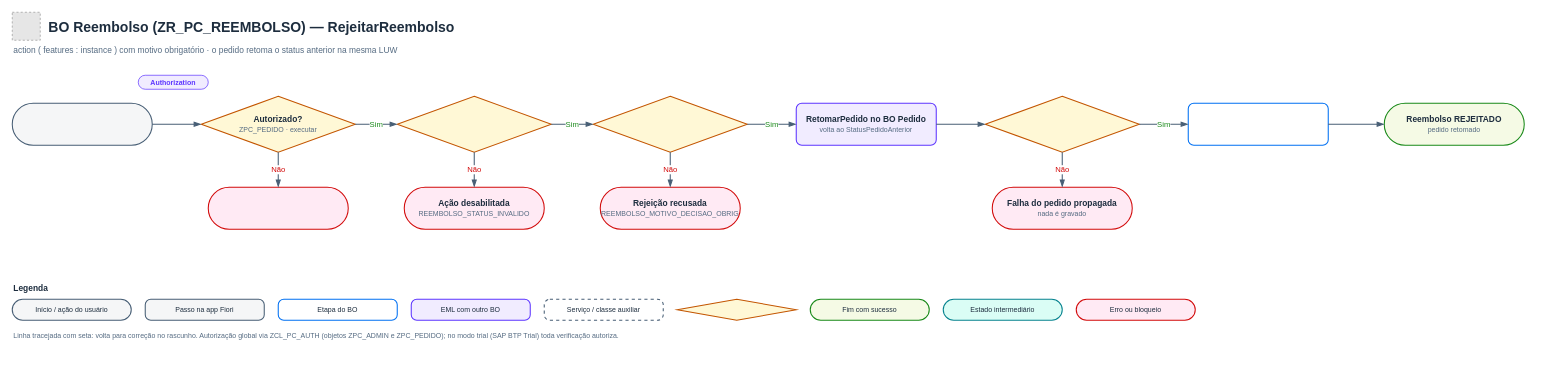
The diagram is 1551 pixels wide and 368 high, and some of its shapes have lost their labels. Grey dashed boxes stand in for pictures. The shapes that lost their labels are listed below. From the top down, each one's centre as x and y in pixels, then its label:
At [81,123]: "Rejeitar reembolso motivo obrigatório".
At [473,123]: "Status PENDENTE?".
At [669,123]: "Motivo informado?".
At [1061,123]: "Pedido retomado?".
At [1257,123]: "Registra a decisão motivo, data e usuário".
At [277,207]: "Ação indisponível sem autorização (botão oculto)".
At [736,309]: "Decisão".
